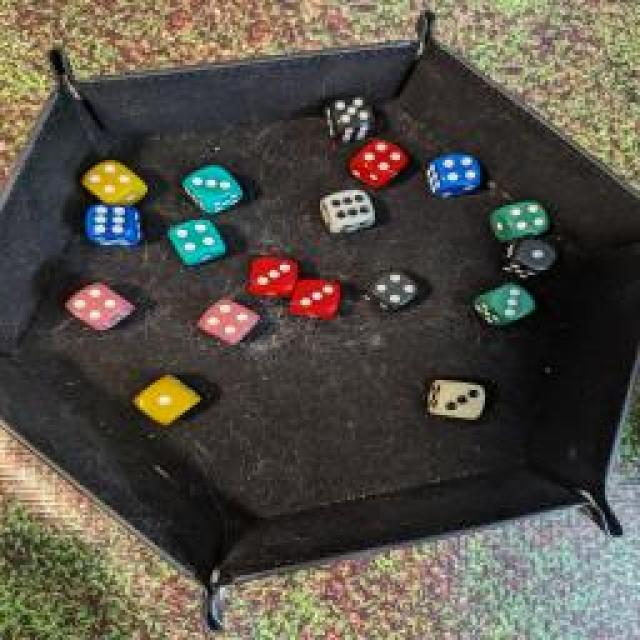dice_1: (129, 371, 201, 429), (490, 235, 558, 280)
dice_3: (418, 376, 504, 426), (175, 163, 250, 215), (282, 274, 346, 324), (474, 279, 531, 326), (245, 251, 300, 299)
dice_4: (161, 212, 234, 272), (60, 283, 140, 335), (190, 294, 258, 346), (419, 147, 489, 195), (356, 268, 422, 312), (349, 136, 409, 184), (492, 191, 550, 239), (81, 161, 144, 204)
dice_5: (324, 90, 381, 142)
dice_6: (81, 200, 149, 255), (312, 188, 386, 238)
